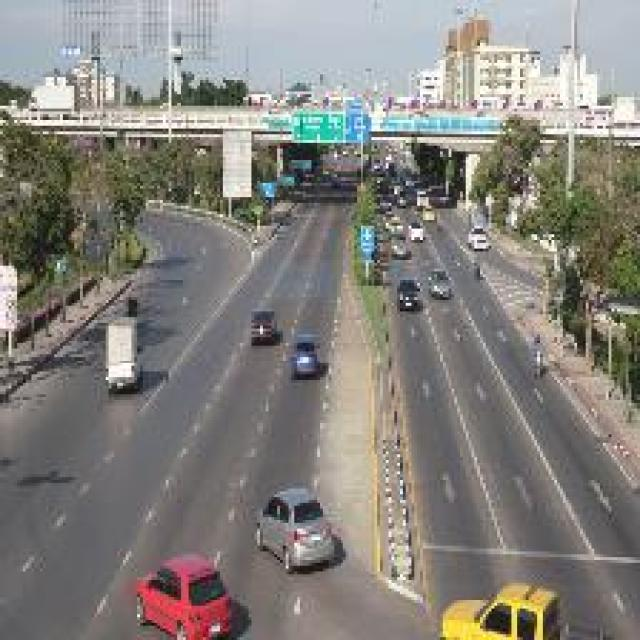other: (120, 539, 232, 632), (430, 570, 560, 631)
